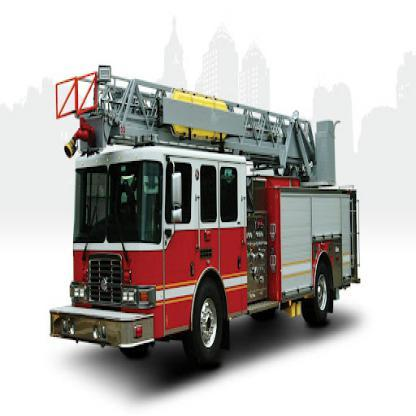fire-truck: (32, 53, 363, 391)
